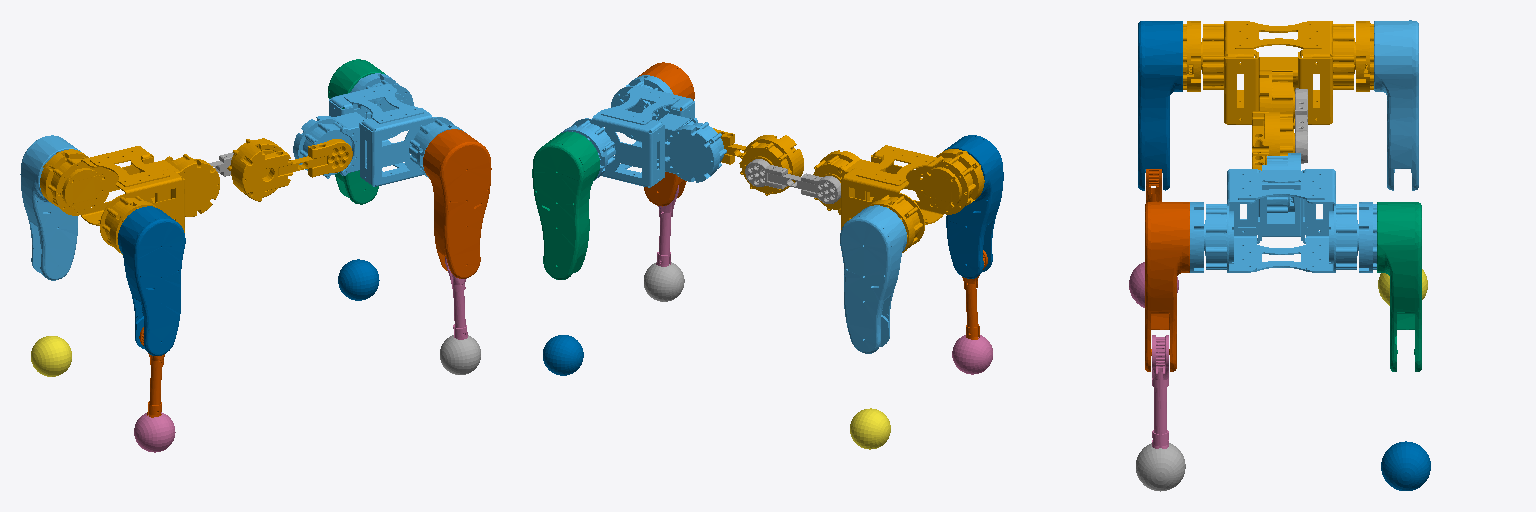
URDF robot description (spined_dog):
<?xml version="1.0" ?>
<robot name="spined_dog">
  <mujoco>
    <compiler meshdir="./meshes/" balanceinertia="true" discardvisual="false" fusestatic="false"/>
  </mujoco>

  <!-- Hind Body -->
  <link name="hind_body">
    <inertial>
      <origin xyz="0 0 0" rpy="0 0 0"/>
      <mass value="1.984"/>
      <inertia ixx="0.01547635" iyy="0.00747572" izz="0.02098524" 
        ixy="0" iyz="0" ixz="0"/>
    </inertial>
    <visual>
      <origin xyz="0 0 0" rpy="0 0 0"/>
      <geometry>
        <mesh filename="meshes/simplify_sim_hind_body.stl" scale="0.001 0.001 0.001"/>
      </geometry>
      
    </visual>
    <collision>
      <origin xyz="0 0 0" rpy="0 0 0"/>
      <geometry>
        <mesh filename="meshes/simplify_sim_hind_body.stl" scale="0.001 0.001 0.001"/>
      </geometry>
    </collision>
  </link>

  <joint name="joint_hind_left_leg_upper" type="revolute">
    <parent link="hind_body"/>
    <child link="hind_left_leg_upper"/>
    <limit effort="1000" lower="-10" upper="10" velocity="1000"/>
    <!-- joints rotates around the y-axis -->
    <axis xyz="0 1 0"/>
    <origin rpy="0 -1.57 0" xyz="-0.033679841 0.136689830 0.000000820"/>
    <!-- pybullet simulation parameters -->
    <dynamics damping="0.0" friction="0.0"/>
  </joint>

  <!-- Hind Left Leg -->
  <link name="hind_left_leg_upper">
    <inertial>
      <origin xyz="-0.05829842 0.01014064 -0.00091992" rpy="0 0 0"/>
      <mass value="0.15"/>
      <inertia ixx="0.00011593" iyy="0.00056031" izz="0.00051694" 
        ixy="0.00000315" iyz="0.00000114" ixz="-0.00001841"/>
    </inertial>
    <visual>
      <origin xyz="0 0 0" rpy="0 0 0"/>
      <geometry>
        <mesh filename="meshes/simplify_sim_hind_left_leg_upper.stl"
          scale="0.001 0.001 0.001"/>
      </geometry>
      
    </visual>
    <collision>
      <origin xyz="0 0 0" rpy="0 0 0"/>
      <geometry>
        <mesh filename="meshes/simplify_sim_hind_left_leg_upper.stl"
          scale="0.001 0.001 0.001"/>
      </geometry>
    </collision>
  </link>

  <joint name="joint_hind_left_leg_lower" type="revolute">
    <parent link="hind_left_leg_upper"/>
    <child link="hind_left_leg_lower"/>
    <limit effort="1000" lower="-10" upper="10" velocity="1000"/>
    <!-- joints rotates around the y-axis -->
    <axis xyz="0 1 0"/>
    <origin rpy="0 0 0" xyz="-0.151 0.012 0.0"/>
    <!-- pybullet simulation parameters -->
    <dynamics damping="0.0" friction="0.0"/>
  </joint>

  <link name="hind_left_leg_lower">
    <inertial>
      <origin xyz="-0.062232355 0 0" rpy="0 0 0"/>
      <mass value="0.035"/>
      <inertia ixx="0.00000335" iyy="0.00014425" izz="0.00014301" 
        ixy="0" iyz="0" ixz="0"/>
    </inertial>
    <visual>
      <origin xyz="0 0 0" rpy="0 0 0"/>
      <geometry>
        <mesh filename="meshes/simplify_sim_hind_left_leg_lower.stl"
          scale="0.001 0.001 0.001"/>
      </geometry>
      
    </visual>
    <collision>
      <origin xyz="0 0 0" rpy="0 0 0"/>
      <geometry>
        <mesh filename="meshes/simplify_sim_hind_left_leg_lower.stl"
          scale="0.001 0.001 0.001"/>
      </geometry>
    </collision>
  </link>

  <!-- Add Hind Left Foot as a ball -->
  <joint name="joint_hind_left_foot" type="fixed">
    <parent link="hind_left_leg_lower"/>
    <child link="hind_left_foot"/>
    <!-- Adjust the origin as needed to place the foot correctly -->
    <origin xyz="-0.151 0 0" rpy="0 0 0"/>
  </joint>

  <link name="hind_left_foot">
    <inertial>
      <origin xyz="0 0 0" rpy="0 0 0"/>
      <mass value="0.01"/>
      <inertia ixx="1e-5" iyy="1e-5" izz="1e-5" ixy="0" ixz="0" iyz="0"/>
    </inertial>
    <visual>
      <origin xyz="0 0 0" rpy="0 0 0"/>
      <geometry>
        <sphere radius="0.03"/>
      </geometry>
    </visual>
    <collision>
      <origin xyz="0 0 0" rpy="0 0 0"/>
      <geometry>
        <sphere radius="0.03"/>
      </geometry>
    </collision>
  </link>

  <joint name="joint_hind_right_leg_upper" type="revolute">
    <parent link="hind_body"/>
    <child link="hind_right_leg_upper"/>
    <limit effort="1000" lower="-10" upper="10" velocity="1000"/>
    <!-- joints rotates around the y-axis -->
    <axis xyz="0 1 0"/>
    <origin rpy="0 -1.57 0" xyz="-0.033679841 -0.137310170 0.000000820"/>
    <!-- pybullet simulation parameters -->
    <dynamics damping="0.0" friction="0.0"/>
  </joint>

  <!-- Hind Right Leg -->
  <link name="hind_right_leg_upper">
    <inertial>
      <origin xyz="-0.05829807 -0.01014064 -0.00091924" rpy="0 0 0"/>
      <mass value="0.15"/>
      <inertia ixx="0.00011591" iyy="0.00056028" izz="0.00051693" 
        ixy="-0.00000315" iyz="-0.00000114" ixz="-0.00001841"/>
    </inertial>
    <visual>
      <origin xyz="0 0 0" rpy="0 0 0"/>
      <geometry>
        <mesh filename="meshes/simplify_sim_hind_right_leg_upper.stl"
          scale="0.001 0.001 0.001"/>
      </geometry>
      
    </visual>
    <collision>
      <origin xyz="0 0 0" rpy="0 0 0"/>
      <geometry>
        <mesh filename="meshes/simplify_sim_hind_right_leg_upper.stl"
          scale="0.001 0.001 0.001"/>
      </geometry>
    </collision>
  </link>

  <joint name="joint_hind_right_leg_lower" type="revolute">
    <parent link="hind_right_leg_upper"/>
    <child link="hind_right_leg_lower"/>
    <limit effort="1000" lower="-10" upper="10" velocity="1000"/>
    <!-- joints rotates around the y-axis -->
    <axis xyz="0 1 0"/>
    <origin rpy="0 0 0" xyz="-0.151 -0.012 0.0"/>
    <!-- pybullet simulation parameters -->
    <dynamics damping="0.0" friction="0.0"/>
  </joint>

  <link name="hind_right_leg_lower">
    <inertial>
      <origin xyz="-0.062232355 0 0" rpy="0 0 0"/>
      <mass value="0.035"/>
      <inertia ixx="0.00000335" iyy="0.00014425" izz="0.00014301" 
        ixy="0" iyz="0" ixz="0"/>
    </inertial>
    <visual>
      <origin xyz="0 0 0" rpy="0 0 0"/>
      <geometry>
        <mesh filename="meshes/simplify_sim_hind_right_leg_lower.stl"
          scale="0.001 0.001 0.001"/>
      </geometry>
      
    </visual>
    <collision>
      <origin xyz="0 0 0" rpy="0 0 0"/>
      <geometry>
        <mesh filename="meshes/simplify_sim_hind_right_leg_lower.stl"
          scale="0.001 0.001 0.001"/>
      </geometry>
    </collision>
  </link>

  <!-- Add Hind Right Foot as a ball -->
  <joint name="joint_hind_right_foot" type="fixed">
    <parent link="hind_right_leg_lower"/>
    <child link="hind_right_foot"/>
    <origin xyz="-0.151 0 0" rpy="0 0 0"/>
  </joint>

  <link name="hind_right_foot">
    <inertial>
      <origin xyz="0 0 0" rpy="0 0 0"/>
      <mass value="0.01"/>
      <inertia ixx="1e-5" iyy="1e-5" izz="1e-5" ixy="0" ixz="0" iyz="0"/>
    </inertial>
    <visual>
      <origin xyz="0 0 0" rpy="0 0 0"/>
      <geometry>
        <sphere radius="0.03"/>
      </geometry>
      
    </visual>
    <collision>
      <origin xyz="0 0 0" rpy="0 0 0"/>
      <geometry>
        <sphere radius="0.03"/>
      </geometry>
    </collision>
  </link>

  <joint name="joint_hind_spine" type="revolute">
    <parent link="hind_body"/>
    <child link="hind_spine"/>
    <limit effort="1000" lower="-10" upper="10" velocity="1000"/>
    <!-- joints rotates around the y-axis -->
    <axis xyz="0 1 0"/>
    <origin rpy="0 0 0" xyz="0.105620295 0.019439829 0.000000819"/>
    <!-- pybullet simulation parameters -->
    <dynamics damping="0.0" friction="0.0"/>
  </joint>

  <!-- Hind Spine -->
  <link name="hind_spine">
    <inertial>
      <origin xyz="0.05875 0.00728531 0" rpy="0 0 0"/>
      <mass value="0.059"/>
      <inertia ixx="0.00000769" iyy="0.00030789" izz="0.00030842"
        ixy="-0.00002525" iyz="0" ixz="-0.00000026"/>
    </inertial>
    <visual>
      <origin xyz="0 0 0" rpy="0 0 0"/>
      <geometry>
        <mesh filename="meshes/simplify_sim_hind_spine.stl"
          scale="0.001 0.001 0.001"/>
      </geometry>
      
    </visual>
    <collision>
      <origin xyz="0 0 0" rpy="0 0 0"/>
      <geometry>
        <mesh filename="meshes/simplify_sim_hind_spine.stl"
          scale="0.001 0.001 0.001"/>
      </geometry>
    </collision>
  </link>

  <joint name="joint_front_spine" type="revolute">
    <parent link="hind_spine"/>
    <child link="front_spine"/>
    <limit effort="1000" lower="-10" upper="10" velocity="1000"/>
    <!-- joints rotates around the y-axis -->
    <axis xyz="0 1 0"/>
    <origin rpy="0 0 0" xyz="0.1175 0 0"/>
    <!-- pybullet simulation parameters -->
    <dynamics damping="0.0" friction="0.0"/>
  </joint>

  <!-- Front Spine -->
  <link name="front_spine">
    <inertial>
      <origin xyz="0.00874180 -0.02174997 0" rpy="0 0 0"/>
      <mass value="0.414"/>
      <inertia ixx="0.00020593" iyy="0.00058390" izz="0.00052443" 
        ixy="0.00007556" iyz="0" ixz="0"/>
    </inertial>
    <visual>
      <origin xyz="0 0 0" rpy="0 0 0"/>
      <geometry>
        <mesh filename="meshes/simplify_sim_front_spine.stl"
          scale="0.001 0.001 0.001"/>
      </geometry>
      
    </visual>
    <collision>
      <origin xyz="0 0 0" rpy="0 0 0"/>
      <geometry>
        <mesh filename="meshes/simplify_sim_front_spine.stl"
          scale="0.001 0.001 0.001"/>
      </geometry>
    </collision>
  </link>

  <joint name="joint_front_body" type="revolute">
    <parent link="front_spine"/>
    <child link="front_body"/>
    <limit effort="1000" lower="-10" upper="10" velocity="1000"/>
    <!-- joints rotates around the y-axis -->
    <axis xyz="0 1 0"/>
    <origin rpy="0 0 0" xyz="0.1175 -0.036 0"/>
    <!-- pybullet simulation parameters -->
    <dynamics damping="0.0" friction="0.0"/>
  </joint>

  <!-- Front Body -->
  <link name="front_body">
    <inertial>
      <origin xyz="0.10562029 0.01943983 0.00000082" rpy="0 0 0"/>
      <mass value="1.984"/>
      <inertia ixx="0.01547636" iyy="0.00747572" izz="0.02098524"
        ixy="0" iyz="0" ixz="0"/>
    </inertial>
    <visual>
      <origin xyz="0 0 0" rpy="0 0 0"/>
      <geometry>
        <mesh filename="meshes/simplify_sim_front_body.stl"
          scale="0.001 0.001 0.001"/>
      </geometry>
      
    </visual>
    <collision>
      <origin xyz="0 0 0" rpy="0 0 0"/>
      <geometry>
        <mesh filename="meshes/simplify_sim_front_body.stl"
          scale="0.001 0.001 0.001"/>
      </geometry>
    </collision>
  </link>

  <joint name="joint_front_left_leg_upper" type="revolute">
    <parent link="front_body"/>
    <child link="front_left_leg_upper"/>
    <limit effort="1000" lower="-10" upper="10" velocity="1000"/>
    <!-- joints rotates around the y-axis -->
    <axis xyz="0 1 0"/>
    <origin rpy="0 1.57 0" xyz="0.139300137 0.15675 0"/>
    <!-- pybullet simulation parameters -->
    <dynamics damping="0.0" friction="0.0"/>
  </joint>

  <!-- Front Left Leg -->
  <link name="front_left_leg_upper">
    <inertial>
      <origin xyz="0.05829807 0.01014064 -0.00091924" rpy="0 0 0"/>
      <mass value="0.15"/>
      <inertia ixx="0.00011591" iyy="0.00056028" izz="0.00051693" 
        ixy="-0.00000315" iyz="0.00000114" ixz="0.00001841"/>
    </inertial>
    <visual>
      <origin xyz="0 0 0" rpy="0 0 0"/>
      <geometry>
        <mesh filename="meshes/simplify_sim_front_left_leg_upper.stl"
          scale="0.001 0.001 0.001"/>
      </geometry>
      
    </visual>
    <collision>
      <origin xyz="0 0 0" rpy="0 0 0"/>
      <geometry>
        <mesh filename="meshes/simplify_sim_front_left_leg_upper.stl"
          scale="0.001 0.001 0.001"/>
      </geometry>
    </collision>
  </link>

  <joint name="joint_front_left_leg_lower" type="revolute">
    <parent link="front_left_leg_upper"/>
    <child link="front_left_leg_lower"/>
    <limit effort="1000" lower="-10" upper="10" velocity="1000"/>
    <!-- joints rotates around the y-axis -->
    <axis xyz="0 1 0"/>
    <origin rpy="0 0 0" xyz="0.151 0.012 0.0"/>
    <!-- pybullet simulation parameters -->
    <dynamics damping="0.0" friction="0.0"/>
  </joint>

  <link name="front_left_leg_lower">
    <inertial>
      <origin xyz="0.062232355 0 0" rpy="0 0 0"/>
      <mass value="0.035"/>
      <inertia ixx="0.00000335" iyy="0.00014301" izz="0.00014425"
        ixy="0" iyz="0" ixz="0"/>
    </inertial>
    <visual>
      <origin xyz="0 0 0" rpy="0 0 0"/>
      <geometry>
        <mesh filename="meshes/simplify_sim_front_left_leg_lower.stl"
          scale="0.001 0.001 0.001"/>
      </geometry>
      
    </visual>
    <collision>
      <origin xyz="0 0 0" rpy="0 0 0"/>
      <geometry>
        <mesh filename="meshes/simplify_sim_front_left_leg_lower.stl"
          scale="0.001 0.001 0.001"/>
      </geometry>
    </collision>
  </link>

  <!-- Add Front Left Foot as a ball -->
  <joint name="joint_front_left_foot" type="fixed">
    <parent link="front_left_leg_lower"/>
    <child link="front_left_foot"/>
    <origin xyz="0.151 0 0" rpy="0 0 0"/>
  </joint>

  <link name="front_left_foot">
    <inertial>
      <origin xyz="0 0 0" rpy="0 0 0"/>
      <mass value="0.01"/>
      <inertia ixx="1e-5" iyy="1e-5" izz="1e-5" ixy="0" ixz="0" iyz="0"/>
    </inertial>
    <visual>
      <origin xyz="0 0 0" rpy="0 0 0"/>
      <geometry>
        <sphere radius="0.03"/>
      </geometry>
      
    </visual>
    <collision>
      <origin xyz="0 0 0" rpy="0 0 0"/>
      <geometry>
        <sphere radius="0.03"/>
      </geometry>
    </collision>
  </link>

  <joint name="joint_front_right_leg_upper" type="revolute">
    <parent link="front_body"/>
    <child link="front_right_leg_upper"/>
    <limit effort="1000" lower="-10" upper="10" velocity="1000"/>
    <!-- joints rotates around the y-axis -->
    <axis xyz="0 1 0"/>
    <origin rpy="0 1.57 0" xyz="0.139300137 -0.11275 0"/>
    <!-- pybullet simulation parameters -->
    <dynamics damping="0.0" friction="0.0"/>
  </joint>

  <!-- Front Right Leg -->
  <link name="front_right_leg_upper">
    <inertial>
      <origin xyz="0.05829842 -0.01014064 -0.00091992" rpy="0 0 0"/>
      <mass value="0.15"/>
      <inertia ixx="0.00011593" iyy="0.00056031" izz="0.00051694"
        ixy="0.00000315" iyz="-0.00000114" ixz="0.00001841"/>
    </inertial>
    <visual>
      <origin xyz="0 0 0" rpy="0 0 0"/>
      <geometry>
        <mesh filename="meshes/simplify_sim_front_right_leg_upper.stl"
          scale="0.001 0.001 0.001"/>
      </geometry>
      
    </visual>
    <collision>
      <origin xyz="0 0 0" rpy="0 0 0"/>
      <geometry>
        <mesh filename="meshes/simplify_sim_front_right_leg_upper.stl"
          scale="0.001 0.001 0.001"/>
      </geometry>
    </collision>
  </link>

  <joint name="joint_front_right_leg_lower" type="revolute">
    <parent link="front_right_leg_upper"/>
    <child link="front_right_leg_lower"/>
    <limit effort="1000" lower="-10" upper="10" velocity="1000"/>
    <!-- joints rotates around the y-axis -->
    <axis xyz="0 1 0"/>
    <origin rpy="0 0 0" xyz="0.151 -0.012 0.0"/>
    <!-- pybullet simulation parameters -->
    <dynamics damping="0.0" friction="0.0"/>
  </joint>

  <link name="front_right_leg_lower">
    <inertial>
      <origin xyz="0.062232355 0 0" rpy="0 0 0"/>
      <mass value="0.035"/>
      <inertia ixx="0.00000335" iyy="0.00014425" izz="0.00014301"
        ixy="0" iyz="0" ixz="0"/>
    </inertial>
    <visual>
      <origin xyz="0 0 0" rpy="0 0 0"/>
      <geometry>
        <mesh filename="meshes/simplify_sim_front_right_leg_lower.stl"
          scale="0.001 0.001 0.001"/>
      </geometry>
      
    </visual>
    <collision>
      <origin xyz="0 0 0" rpy="0 0 0"/>
      <geometry>
        <mesh filename="meshes/simplify_sim_front_right_leg_lower.stl"
          scale="0.001 0.001 0.001"/>
      </geometry>
    </collision>
  </link>

  <!-- Add Front Right Foot as a ball -->
  <joint name="joint_front_right_foot" type="fixed">
    <parent link="front_right_leg_lower"/>
    <child link="front_right_foot"/>
    <origin xyz="0.151 0 0" rpy="0 0 0"/>
  </joint>

  <link name="front_right_foot">
    <inertial>
      <origin xyz="0 0 0" rpy="0 0 0"/>
      <mass value="0.01"/>
      <inertia ixx="1e-5" iyy="1e-5" izz="1e-5" ixy="0" ixz="0" iyz="0"/>
    </inertial>
    <visual>
      <origin xyz="0 0 0" rpy="0 0 0"/>
      <geometry>
        <sphere radius="0.03"/>
      </geometry>
      
    </visual>
    <collision>
      <origin xyz="0 0 0" rpy="0 0 0"/>
      <geometry>
        <sphere radius="0.03"/>
      </geometry>
    </collision>
  </link>

</robot>

--- Render facts (derived) ---
Views: 3 orthographic renders of the robot side by side, from view 1: azimuth 30°, elevation 25°; view 2: azimuth 150°, elevation 25°; view 3: azimuth 270°, elevation 25°.
Robot: spined_dog — 16 links, 15 joints (11 revolute, 4 fixed); root link hind_body; default pose: all joints at 0.
Links seen in each view (by area): view 1: hind_body, front_body, front_right_leg_upper, hind_right_leg_upper, hind_left_leg_upper, front_spine, front_left_leg_upper, hind_left_foot, front_left_foot, front_right_foot, hind_right_foot, hind_right_leg_lower (+1 smaller); view 2: front_body, hind_body, front_left_leg_upper, hind_left_leg_upper, hind_right_leg_upper, front_spine, hind_spine, front_right_leg_upper, front_left_foot, hind_left_foot, front_right_foot, hind_right_foot (+2 smaller); view 3: front_body, hind_body, hind_left_leg_upper, hind_right_leg_upper, front_left_leg_upper, front_right_leg_upper, front_spine, front_left_foot, front_right_foot, front_right_leg_lower, hind_spine, hind_right_foot.
Boxes of the visible links, x1,y1,x2,y2 form: hind_body: [40, 146, 219, 254]; front_body: [293, 73, 465, 186]; front_right_leg_upper: [423, 129, 491, 278]; hind_right_leg_upper: [118, 206, 185, 355]; hind_left_leg_upper: [20, 135, 80, 280]; front_spine: [227, 138, 352, 201]; front_left_leg_upper: [328, 59, 385, 204]; hind_left_foot: [31, 336, 71, 376]; front_left_foot: [338, 259, 379, 300]; front_right_foot: [440, 335, 480, 374]; hind_right_foot: [134, 412, 175, 452]; hind_right_leg_lower: [139, 327, 164, 417]; front_body: [561, 75, 726, 187]; hind_body: [813, 145, 984, 252]; front_left_leg_upper: [532, 131, 599, 279]; hind_left_leg_upper: [840, 205, 906, 353]; hind_right_leg_upper: [944, 135, 1003, 278]; front_spine: [713, 128, 803, 195]; hind_spine: [745, 159, 840, 203]; front_right_leg_upper: [638, 62, 694, 206]; front_left_foot: [543, 335, 583, 375]; hind_left_foot: [850, 408, 890, 449]; front_right_foot: [644, 262, 684, 301]; hind_right_foot: [952, 335, 992, 374]; front_body: [1190, 153, 1376, 272]; hind_body: [1183, 21, 1373, 128]; hind_left_leg_upper: [1374, 20, 1418, 190]; hind_right_leg_upper: [1138, 21, 1182, 190]; front_left_leg_upper: [1377, 202, 1421, 371]; front_right_leg_upper: [1145, 202, 1189, 371]; front_spine: [1252, 111, 1294, 170]; front_left_foot: [1381, 441, 1430, 490]; front_right_foot: [1136, 443, 1185, 491]; front_right_leg_lower: [1152, 335, 1168, 448]; hind_spine: [1295, 88, 1307, 163]; hind_right_foot: [1129, 262, 1178, 307].
Bounding box of the posed robot: 0.5999 × 0.3615 × 0.3805 m (x, y, z).
Meshes: 12 distinct files referenced, 10 mesh visuals loaded (10 binary STL); not drawn: 2 (reference not matched to a file when rendering).
